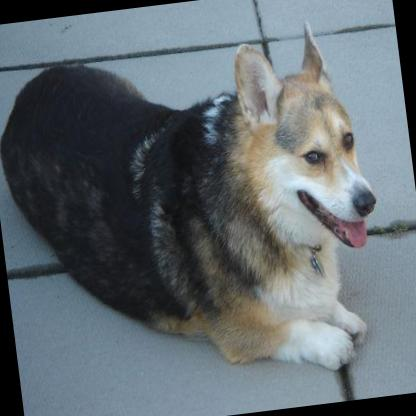Pembroke: (0, 11, 396, 408)
